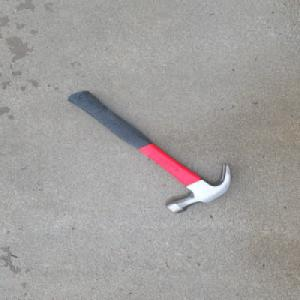Hammer: (66, 90, 232, 214)
